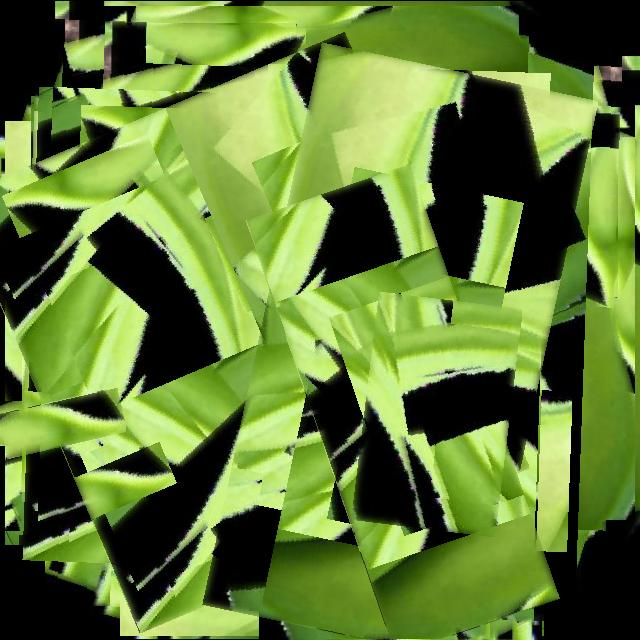Verde: (22, 23, 618, 618), (21, 140, 525, 547), (252, 50, 487, 640), (370, 177, 488, 640), (351, 310, 522, 520), (0, 406, 124, 458)
